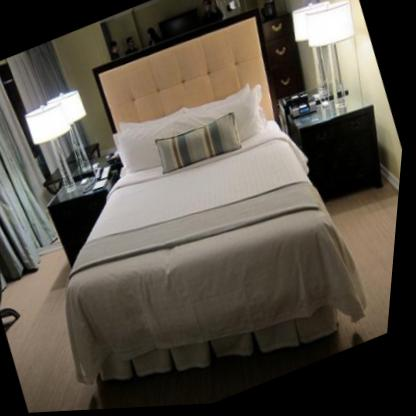Bed: (0, 1, 369, 404)
